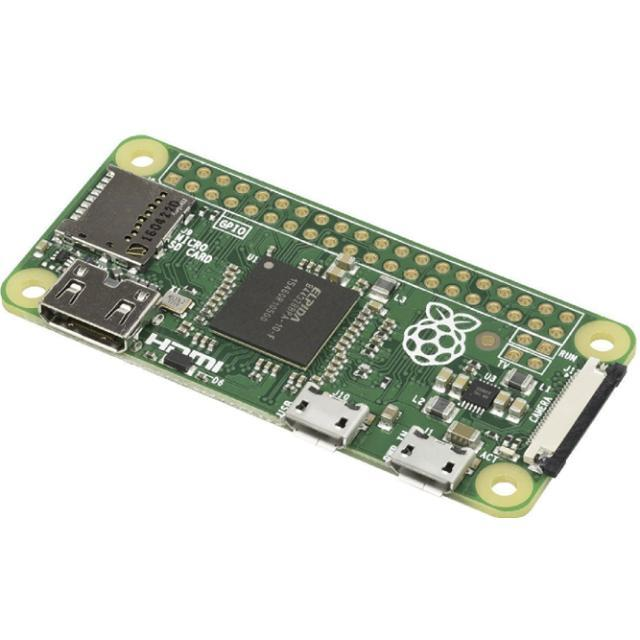Raspberry-Pi-Zero: (1, 137, 636, 518)
